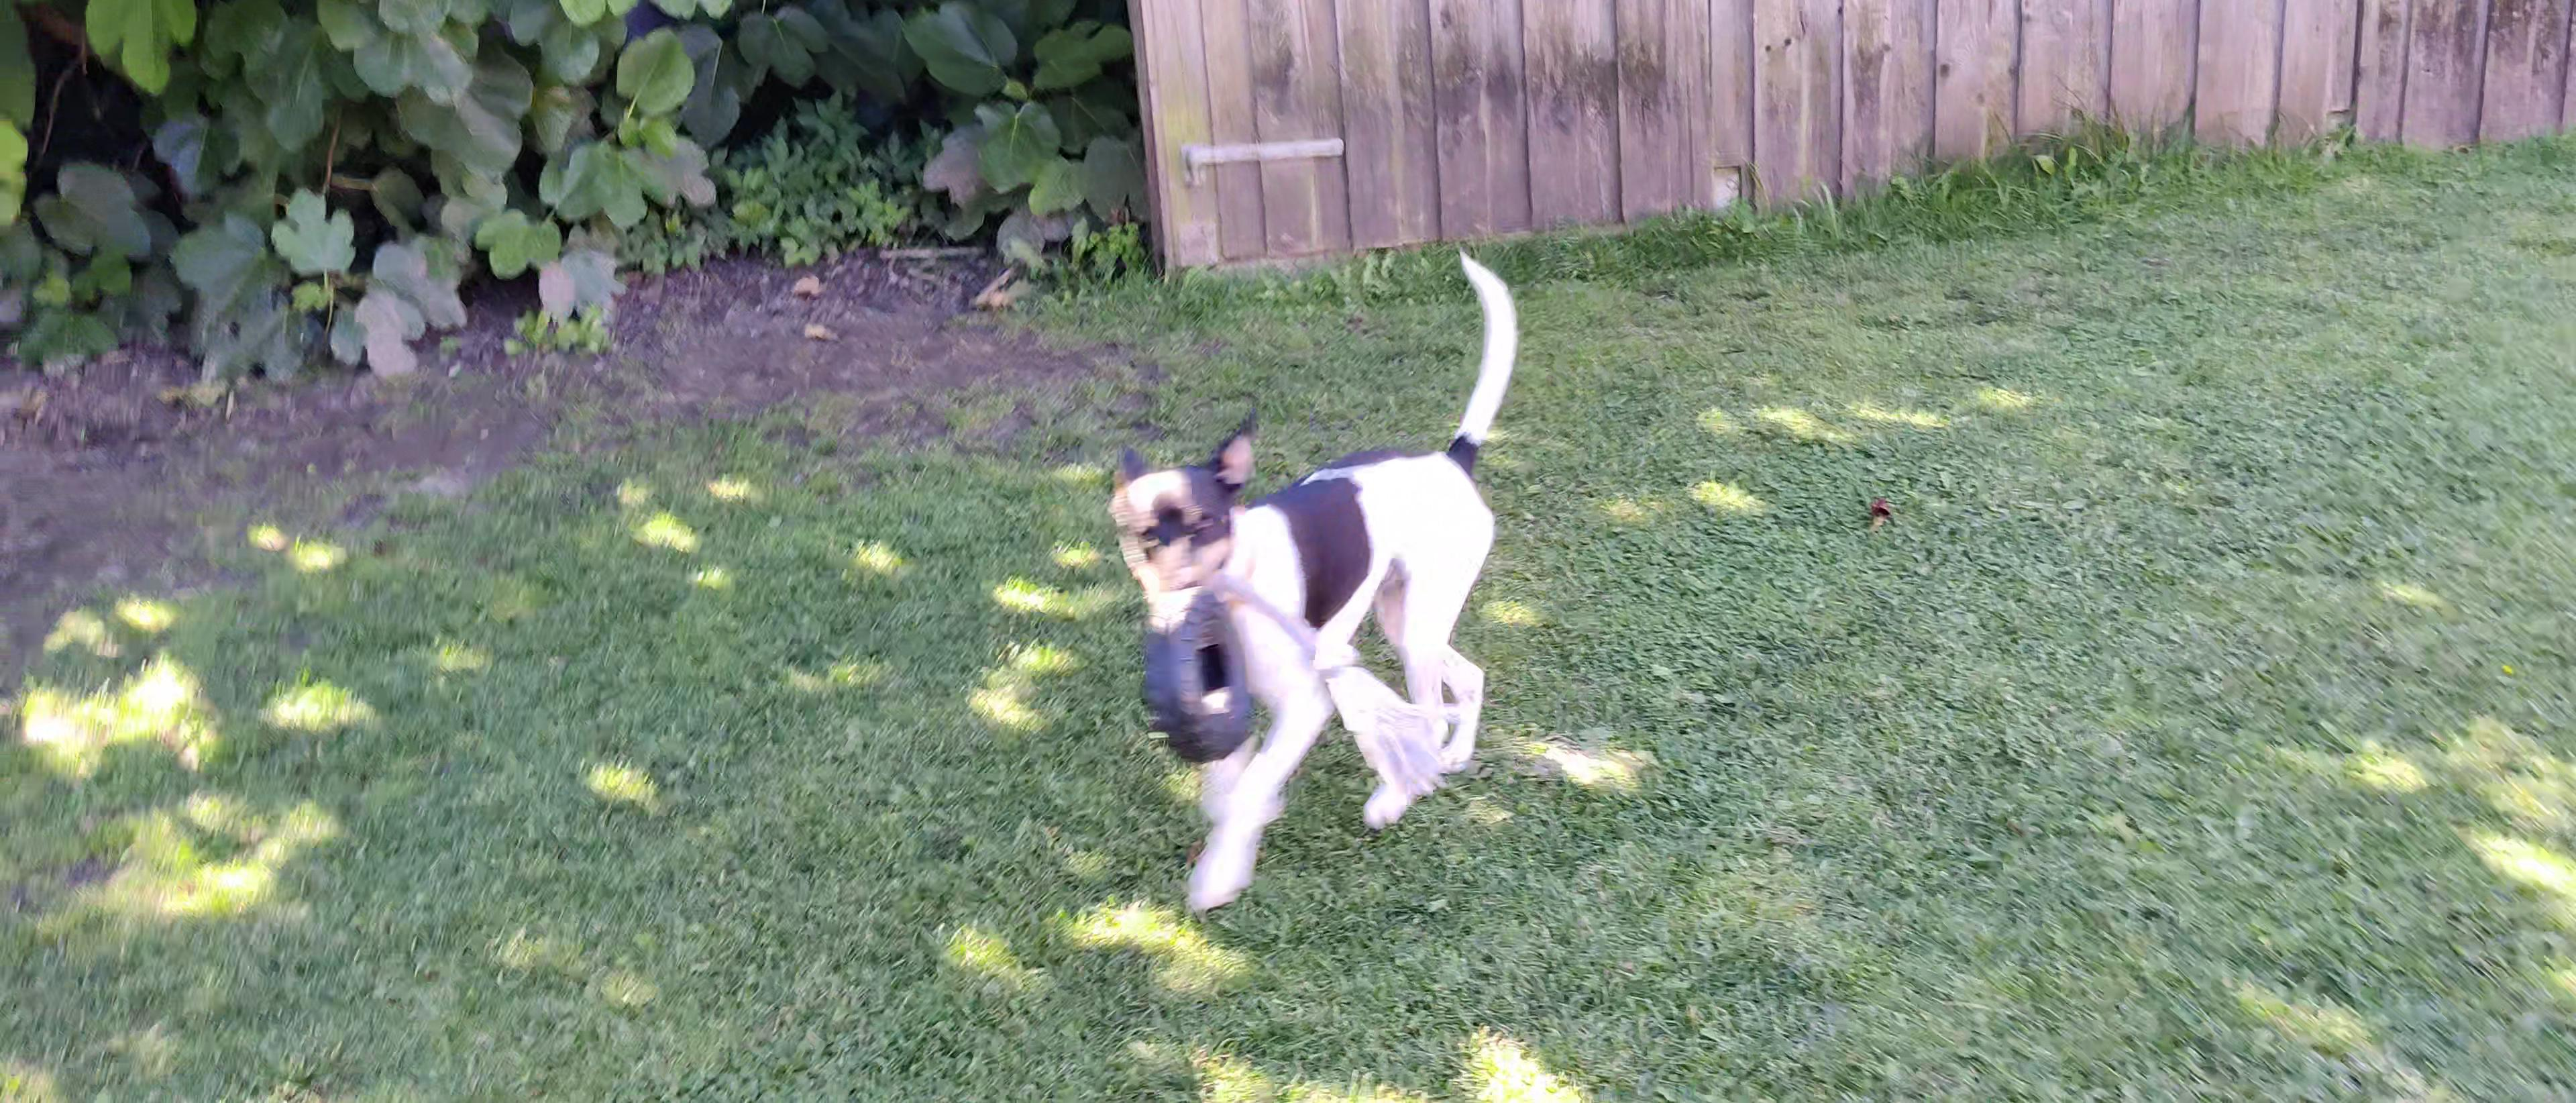Dog: (1094, 237, 1526, 916)
